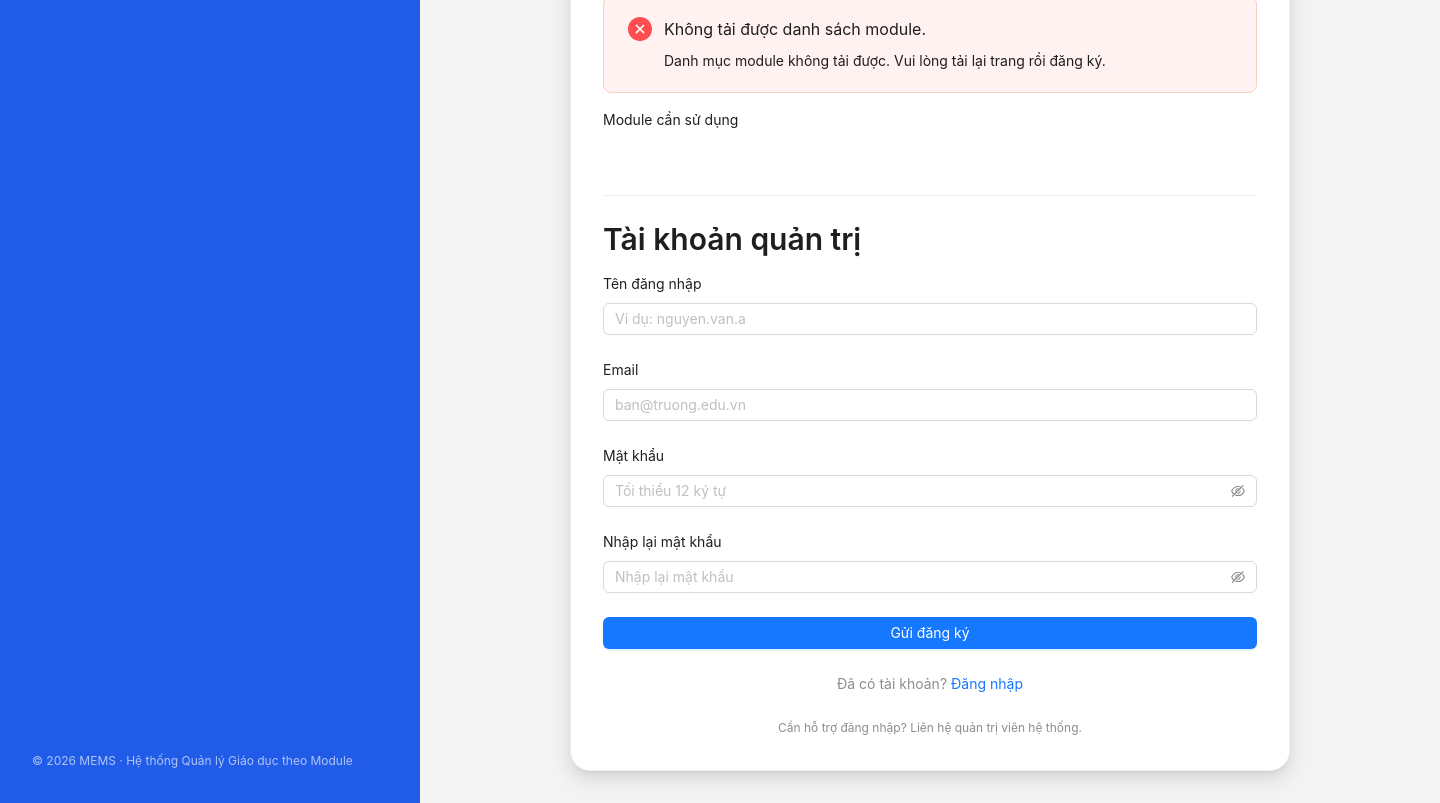
Scenario: bỏ trống rồi gửi thì hiện lỗi tại từng trường
(page scrolled)
Click the button "Gửi đăng ký" at point(930, 633), box [603,617,1257,649]
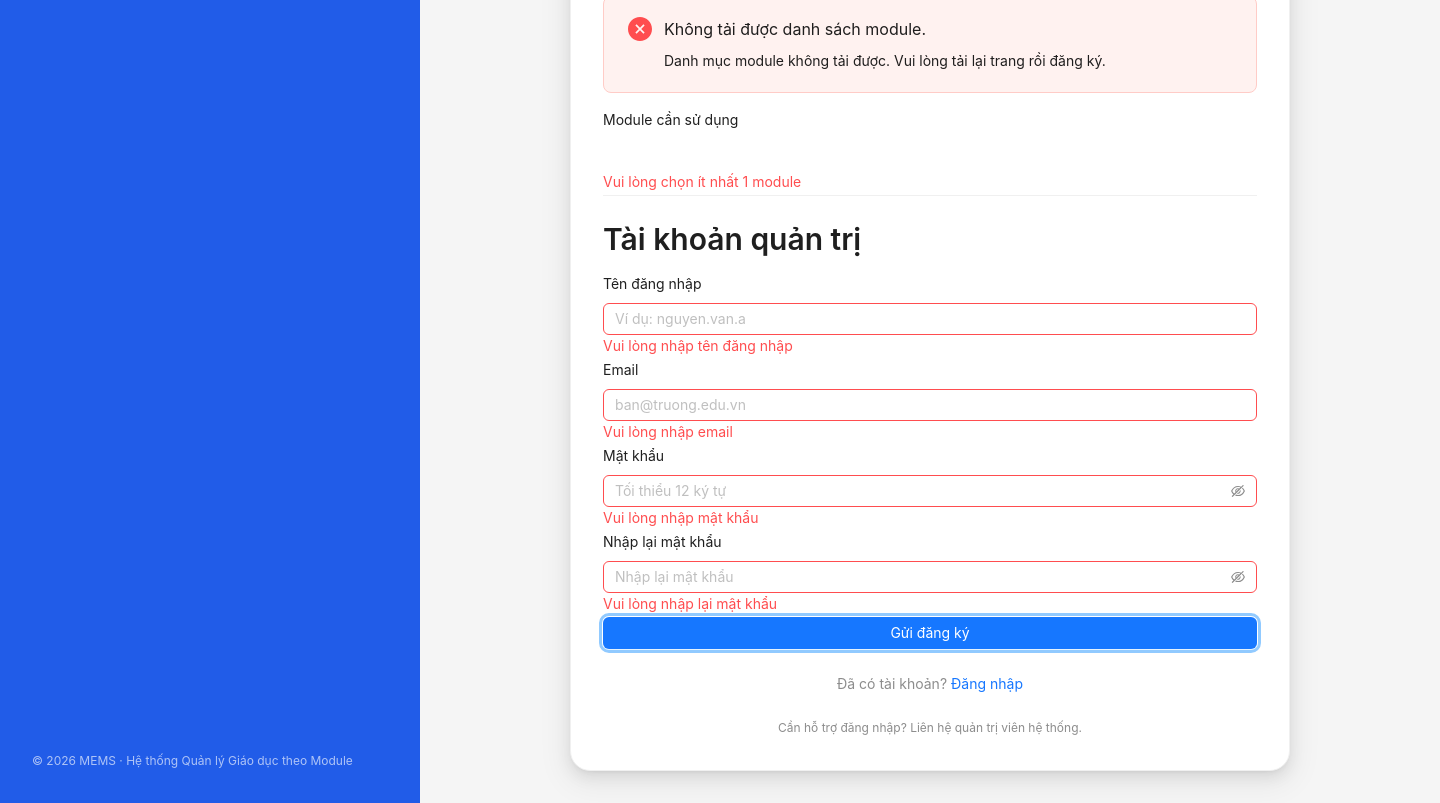
Expected: the text "Vui lòng chọn ít nhất 1 module" is shown, [603,173,801,190]
Expected: the text "Vui lòng nhập tên đăng nhập" is shown, [603,337,793,354]
Expected: the text "Vui lòng nhập email" is shown, [603,423,733,440]
